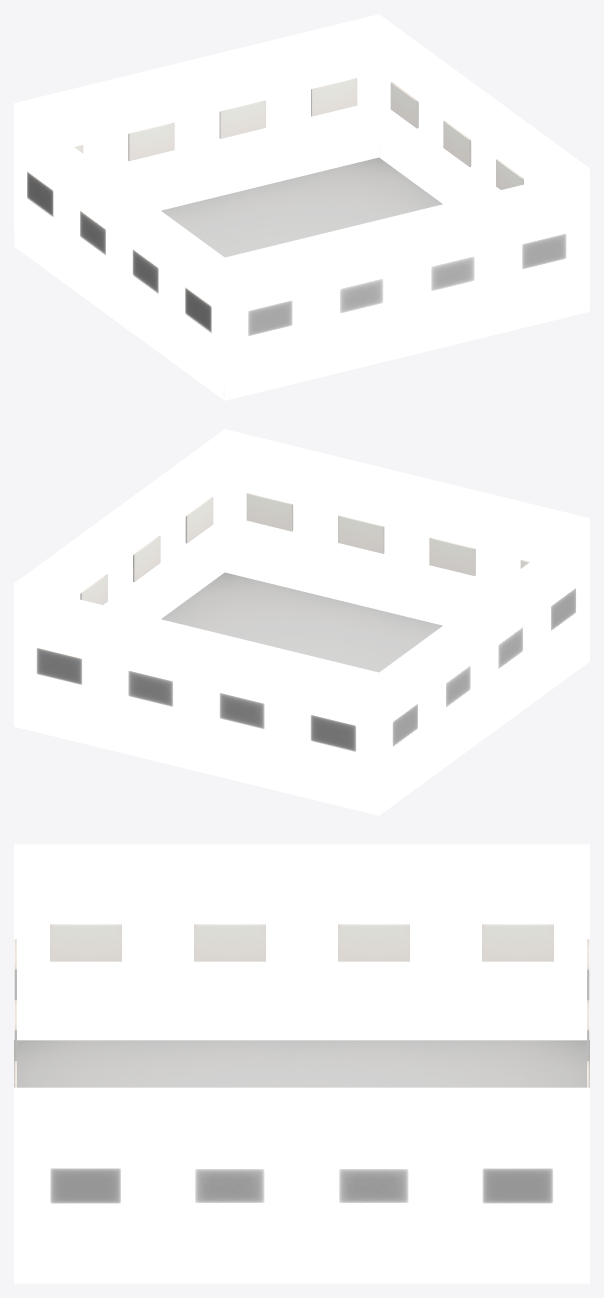
The model's file is walls.glb.
3 renders of one model, top to bottom at view 1: azimuth 30°, elevation 25°; view 2: azimuth 150°, elevation 25°; view 3: azimuth 270°, elevation 25°, orthographic. The views are drawn at different scales.
Visible parts, largest first — view 1: floor, wall1-1.003, wall1-4.003, wall1-2.003, wall1-3.003, wall1-4.001, wall1-3.001, wall1-2.001, wall1-3, wall1-4, wall1-2, wall1-1 (+11 smaller); view 2: floor, wall1-1.001, wall1-4.001, wall1-2.001, wall1-3.001, wall1-1.003, wall1-2.003, wall1-3.003, wall1-2, wall1-1, wall1-3, wall1-4 (+11 smaller); view 3: wall1-1.002, wall1-4.002, wall1-2.002, wall1-3.002, floor, wall1-2, wall1-3, wall1-1, wall1-4, Plane.006, Plane.004, Plane.007 (+1 smaller).
Part boxes in pixels (<box>): floor: <box>161,157,442,257</box>; wall1-1.003: <box>498,168,589,333</box>; wall1-4.003: <box>224,235,315,400</box>; wall1-2.003: <box>407,191,498,356</box>; wall1-3.003: <box>316,213,407,378</box>; wall1-4.001: <box>288,14,379,179</box>; wall1-3.001: <box>196,36,287,201</box>; wall1-2.001: <box>105,58,196,210</box>; wall1-3: <box>66,142,119,323</box>; wall1-4: <box>14,103,66,284</box>; wall1-2: <box>119,180,171,361</box>; wall1-1: <box>172,219,224,400</box>; floor: <box>161,572,442,672</box>; wall1-1.001: <box>288,650,379,815</box>; wall1-4.001: <box>14,583,105,748</box>; wall1-2.001: <box>196,628,287,793</box>; wall1-3.001: <box>105,606,196,771</box>; wall1-1.003: <box>224,429,315,594</box>; wall1-2.003: <box>316,451,407,616</box>; wall1-3.003: <box>407,473,498,625</box>; wall1-2: <box>484,557,537,738</box>; wall1-1: <box>537,518,589,699</box>; wall1-3: <box>432,595,484,776</box>; wall1-4: <box>379,634,431,815</box>; wall1-1.002: <box>446,1087,589,1283</box>; wall1-4.002: <box>14,1087,157,1283</box>; wall1-2.002: <box>302,1087,445,1283</box>; wall1-3.002: <box>158,1087,301,1283</box>; floor: <box>14,1040,589,1087</box>; wall1-2: <box>158,844,301,1040</box>; wall1-3: <box>302,844,445,1040</box>; wall1-1: <box>14,844,157,1040</box>; wall1-4: <box>446,844,589,1040</box>; Plane.006: <box>50,924,121,961</box>; Plane.004: <box>194,924,265,961</box>; Plane.007: <box>338,924,409,961</box>.
Size of the model in its own units: 8 by 3 by 8.
5 materials, 2 textured.
